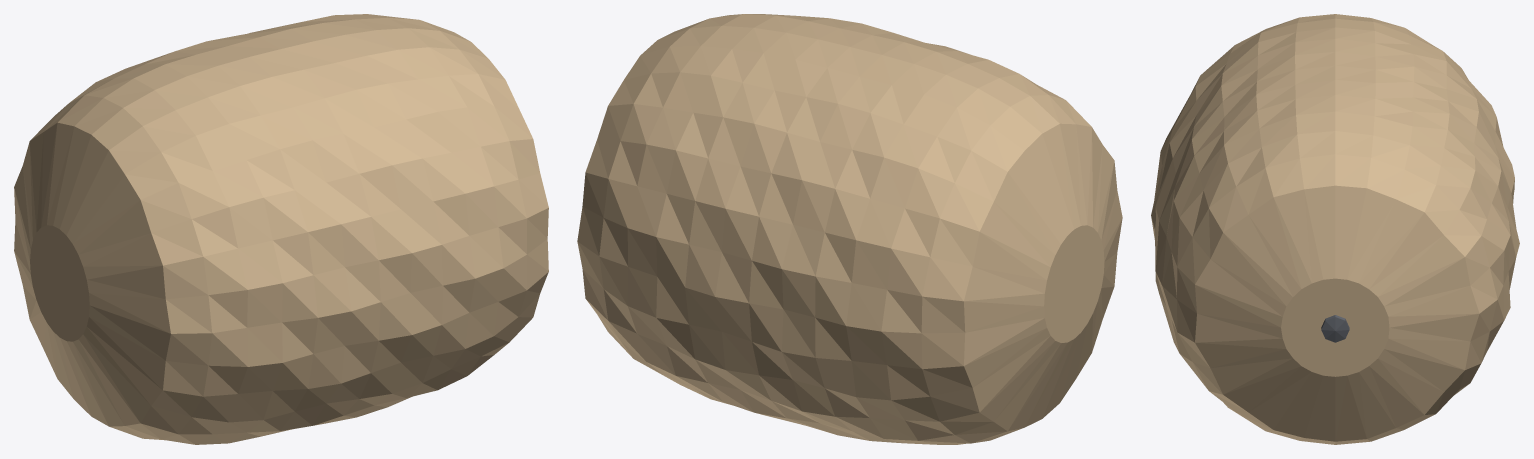
Rendered from fresh-produce-and-groceries-kiwi-43b31d82__24337.glb.
3 views of the same model, side by side, from view 1: azimuth 30°, elevation 25°; view 2: azimuth 150°, elevation 25°; view 3: azimuth 270°, elevation 25° (orthographic). The views are drawn at different scales.
Visible parts, largest first — view 1: kiwi; view 2: kiwi; view 3: kiwi.
Boxes of the visible parts, left/top/right/bottom form: kiwi: left=14, top=14, right=548, bottom=444; kiwi: left=577, top=14, right=1122, bottom=444; kiwi: left=1151, top=14, right=1519, bottom=444.
Bounding box in the file's own units: 0.0732 × 0.056 × 0.0571.
